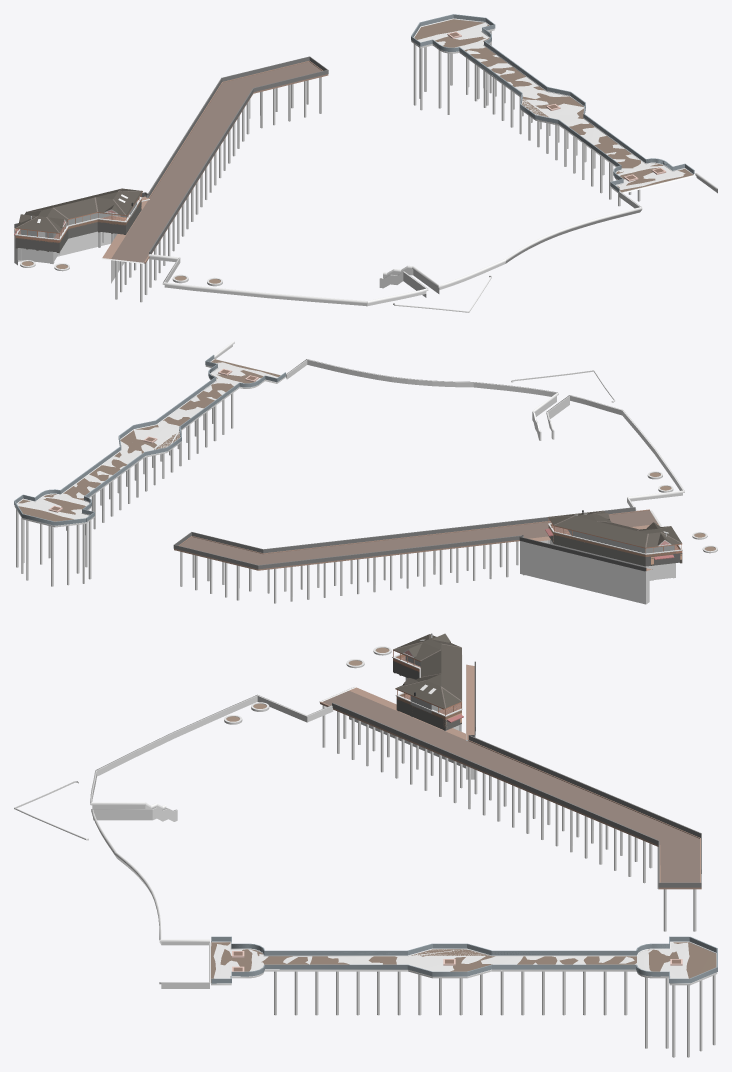
File: piers.dae
3 views of the same model, one above another, from view 1: azimuth 30°, elevation 25°; view 2: azimuth 150°, elevation 25°; view 3: azimuth 270°, elevation 25° (orthographic). The views are drawn at different scales.
Parts seen in each view (by area): view 1: piers_a2000, piers_a1000, Colmesh-1; view 2: piers_a2000, piers_a1000, Colmesh-1; view 3: piers_a2000, piers_a1000, Colmesh-1.
Boxes of the visible parts, bbox=[...] form: piers_a2000: bbox=[14, 14, 717, 312]; piers_a1000: bbox=[15, 19, 693, 262]; Colmesh-1: bbox=[14, 14, 694, 285]; piers_a2000: bbox=[14, 341, 717, 604]; piers_a1000: bbox=[18, 359, 682, 566]; Colmesh-1: bbox=[14, 355, 675, 571]; piers_a2000: bbox=[14, 633, 717, 1057]; piers_a1000: bbox=[211, 633, 716, 982]; Colmesh-1: bbox=[211, 661, 717, 983].
Bounding box in the file's own units: 194 × 171 × 28.33.
